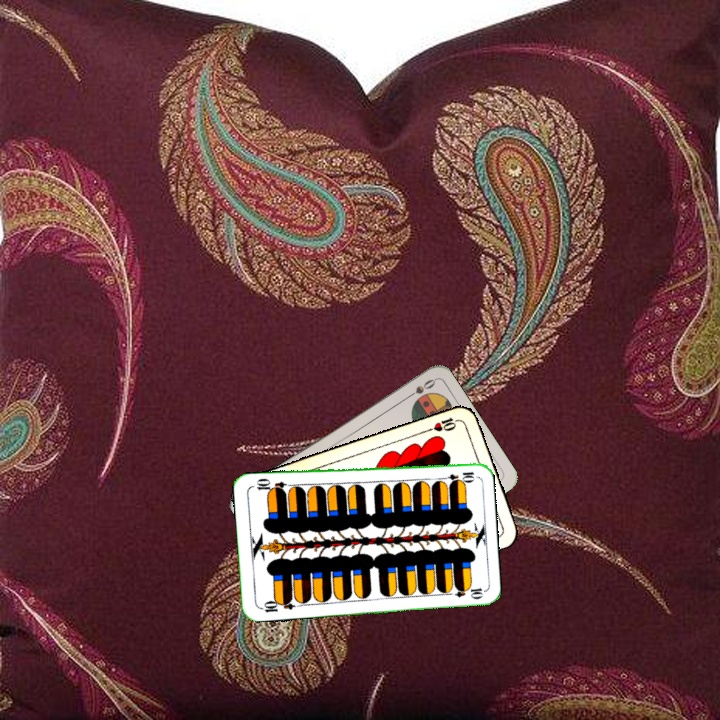E10: (256, 595, 297, 615), (436, 468, 477, 483)
H10: (423, 413, 463, 434)
SO: (401, 375, 438, 402)
